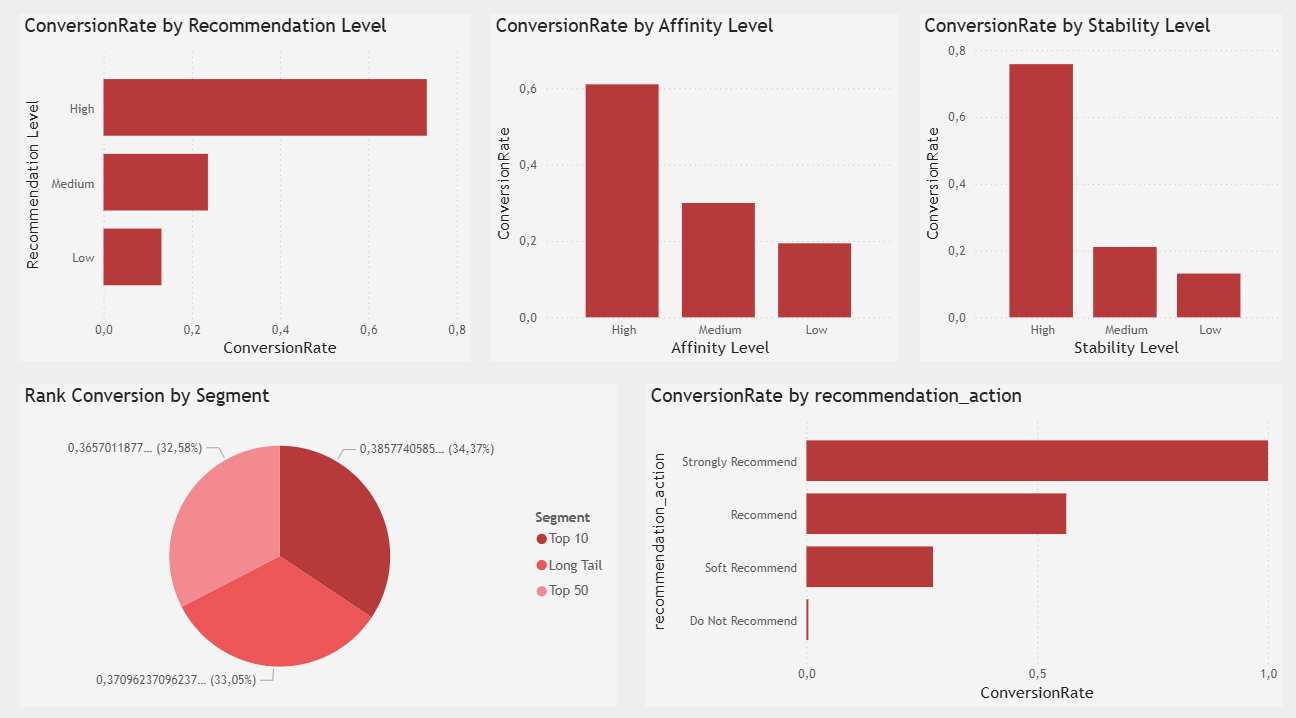

What the dashboard file says about the page in this screenshot:
{"tool":"powerbi","page":{"name":"Recommendation System Performance","canvas":[1280,720],"ordinal":3},"visuals":[{"type":"clusteredColumnChart","fields":{"Y":["E-COMMERCE DATA.ConversionRate"],"Category":["E-COMMERCE DATA.Stability Level"]},"box":[907,19.2,355.4,340.3],"z":0},{"type":"clusteredColumnChart","fields":{"Y":["E-COMMERCE DATA.ConversionRate"],"Category":["E-COMMERCE DATA.Affinity Level"]},"box":[488.5,19.2,399.3,340.3],"z":1000},{"type":"clusteredBarChart","fields":{"Category":["E-COMMERCE DATA.Recommendation Level"],"Y":["E-COMMERCE DATA.ConversionRate"]},"box":[27.4,19.2,441.9,340.3],"z":2000},{"type":"clusteredBarChart","fields":{"Category":["E-COMMERCE DATA.recommendation_action"],"Y":["E-COMMERCE DATA.ConversionRate"]},"box":[639.5,381.5,623,315.6],"z":3000},{"type":"pieChart","fields":{"Category":["Rank Segment.Segment"],"Y":["Rank Segment.Rank Conversion"]},"box":[27.4,381.5,584.6,315.6],"z":4000}]}

Visuals, with their boxes in screenshot pixels (x1, y1, x2, y2), scaled from the page's 1280x720 canvas onto the 1296x718 screenshot:
clusteredColumnChart - E-COMMERCE DATA.ConversionRate x E-COMMERCE DATA.Stability Level: detection(918, 19, 1278, 359)
clusteredColumnChart - E-COMMERCE DATA.ConversionRate x E-COMMERCE DATA.Affinity Level: detection(495, 19, 899, 359)
clusteredBarChart - E-COMMERCE DATA.Recommendation Level x E-COMMERCE DATA.ConversionRate: detection(28, 19, 475, 359)
clusteredBarChart - E-COMMERCE DATA.recommendation_action x E-COMMERCE DATA.ConversionRate: detection(647, 380, 1278, 695)
pieChart - Rank Segment.Segment x Rank Segment.Rank Conversion: detection(28, 380, 620, 695)
